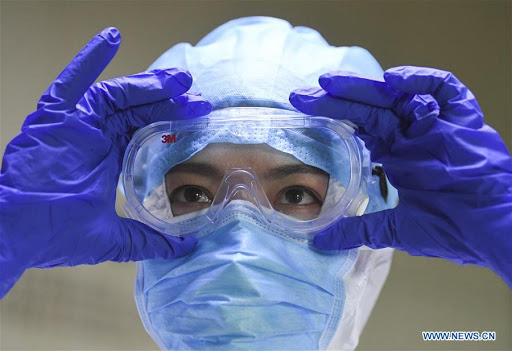Gloves: (261, 52, 512, 286), (1, 22, 233, 270)
Goggles: (124, 112, 368, 245)
with_mask: (129, 118, 371, 351)
